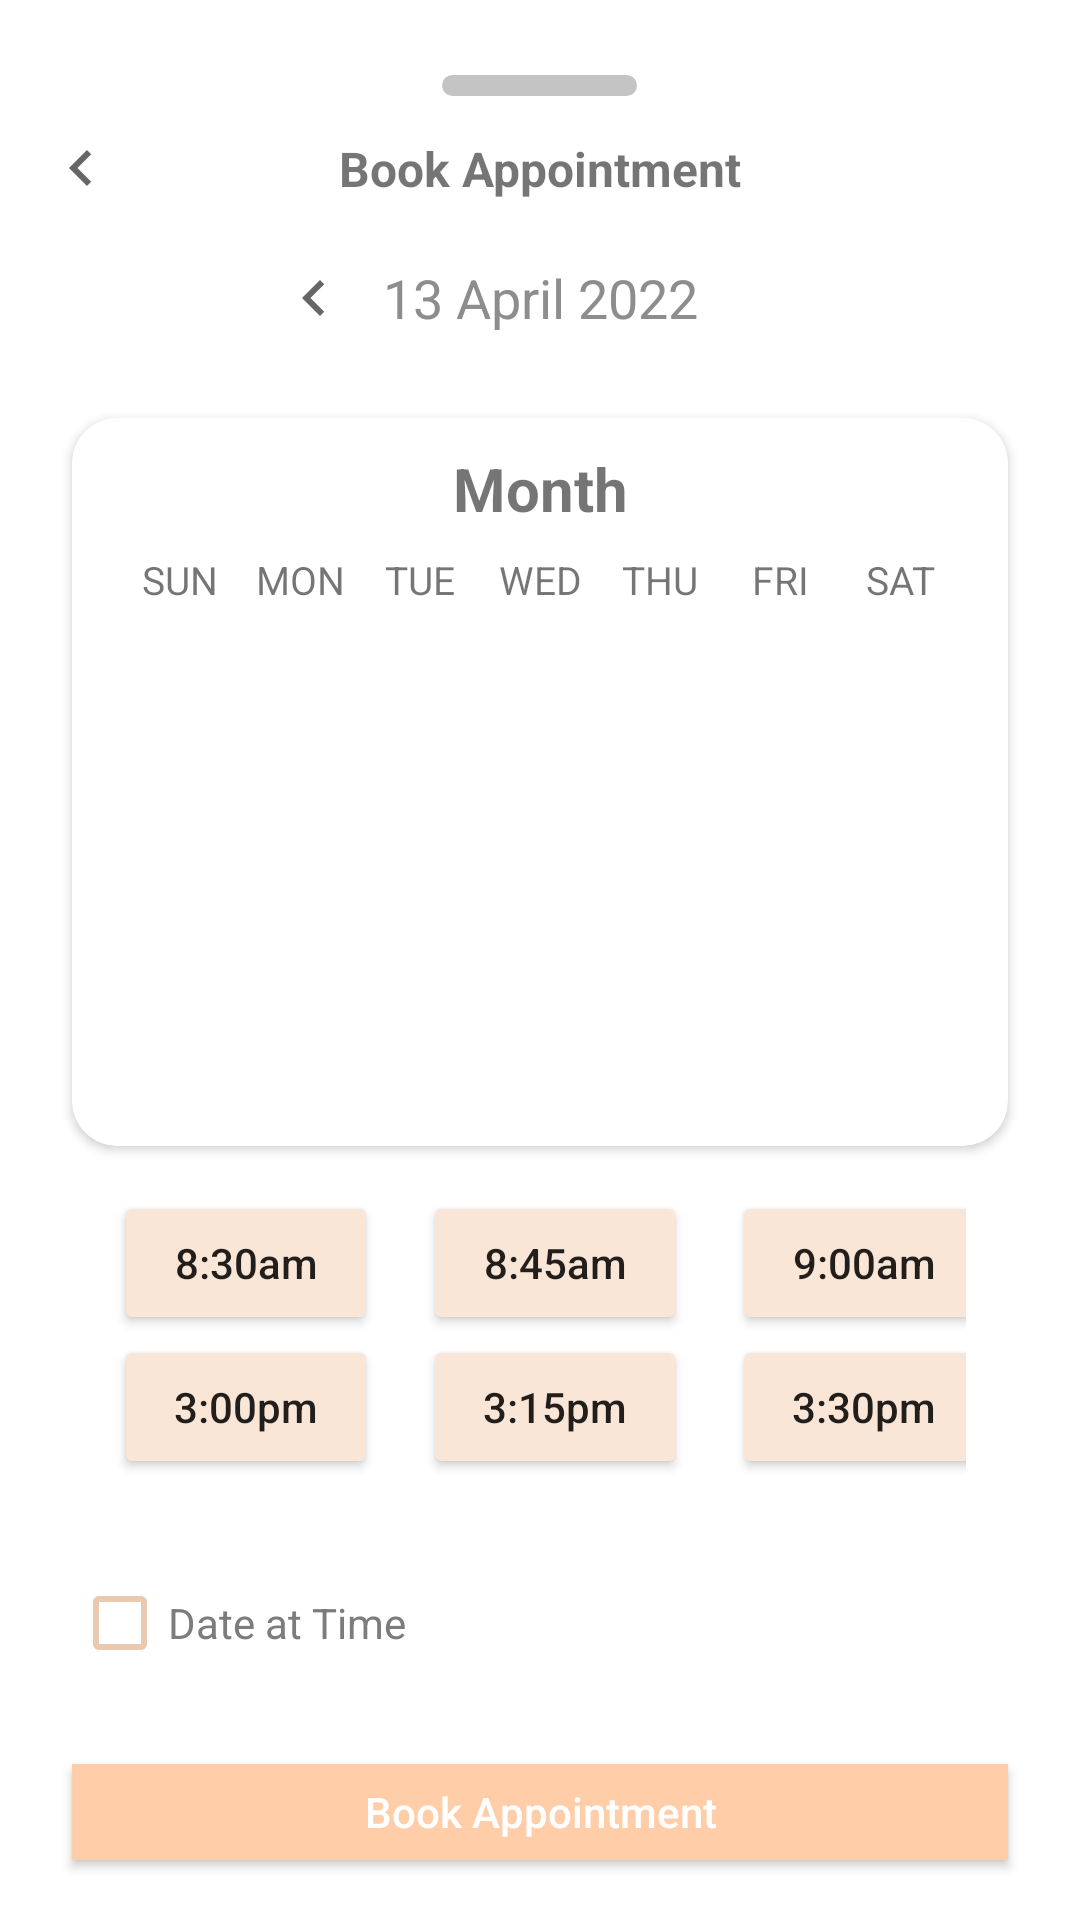

Locate icon controls on the screen. Image size 1080x1920, boxes as [x1,y1,x2,y2].
left: [69,150,91,186], [302,280,324,316]
